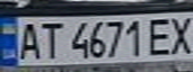1: (124, 16, 148, 57)
4: (66, 19, 90, 58)
6: (87, 18, 109, 60)
7: (103, 18, 127, 58)
A: (12, 19, 45, 61)
E: (145, 15, 175, 56)
T: (36, 19, 66, 60)
X: (166, 12, 193, 56)
